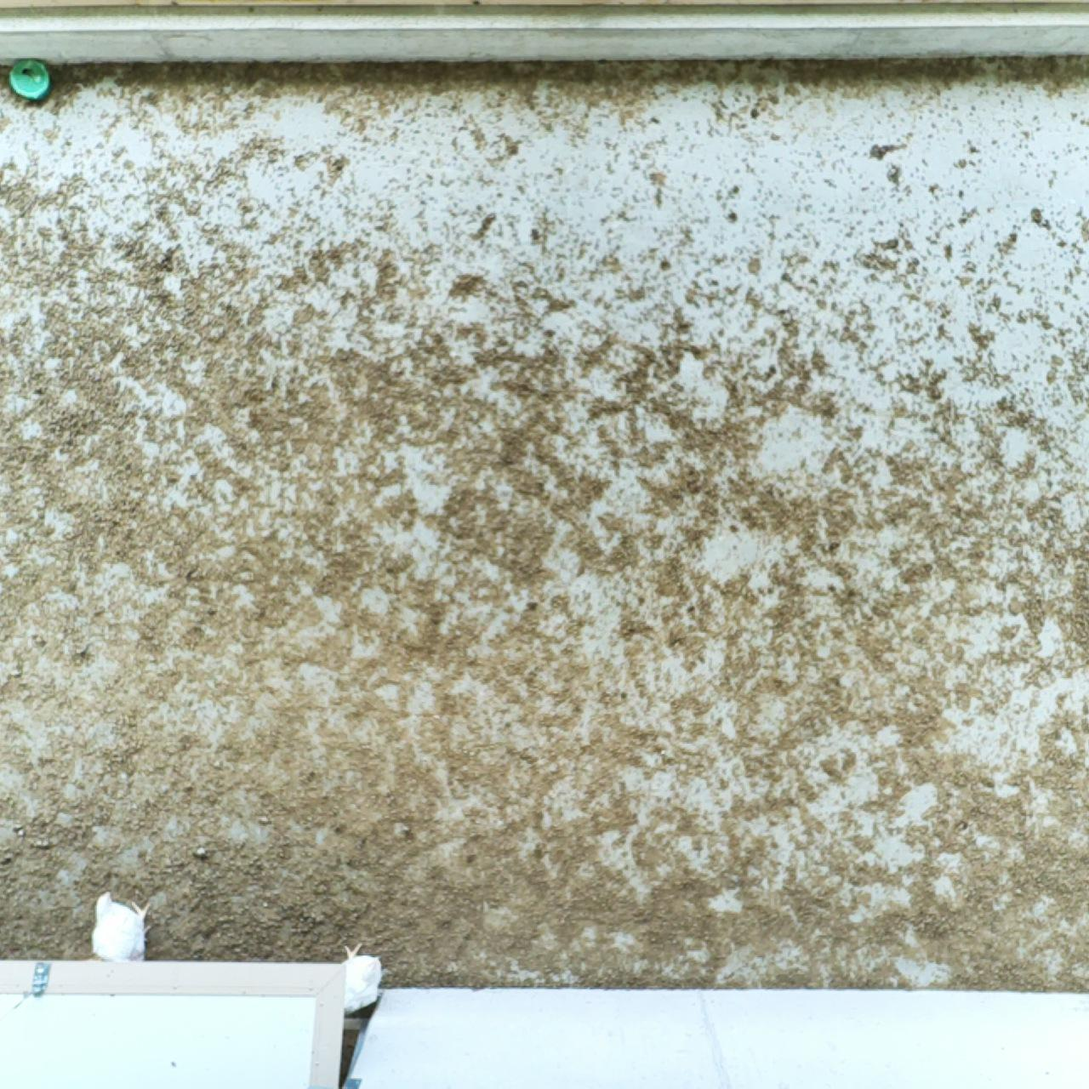chicken: (83, 886, 159, 965), (336, 940, 387, 1017)
